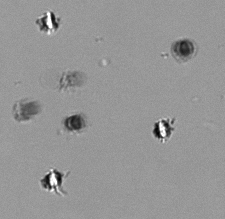Dead Cell: (171, 40, 198, 59), (66, 114, 85, 130)
Living Cell: (43, 169, 65, 192), (37, 11, 59, 32), (154, 117, 173, 140)
